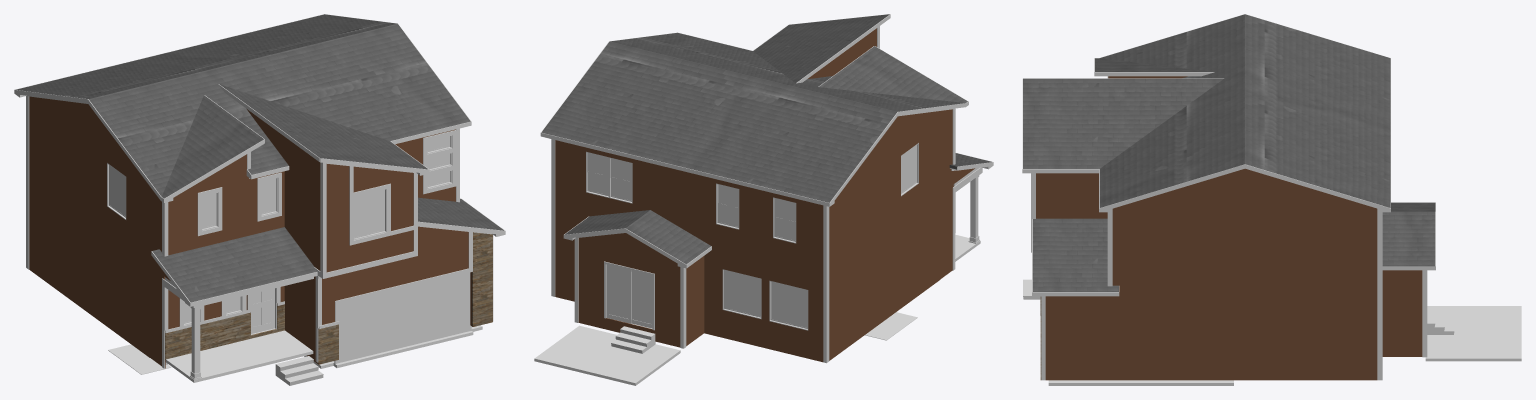
The model's file is 235-1791-dm-modern.glb.
3 views of the same model, side by side, from view 1: azimuth 30°, elevation 25°; view 2: azimuth 150°, elevation 25°; view 3: azimuth 270°, elevation 25° (orthographic). The views are drawn at different scales.
Parts seen in each view (by area): view 1: Basic Roof Wood Rafter 4" - Asphalt Shingle - Insulated_6732, Basic Wall BSB Exterior - Stud_3.5" - Sheathing_0.5" - _47e7, Basic Wall BSB Exterior - Stud_3.5" - Sheathing_0.5" - _ea36, BSB Exterior - Overhead Garage Door OGD - 16070 - Flush_eb63, Basic Roof Wood Rafter 4" - Asphalt Shingle - Insulated_c598, Basic Wall BSB Exterior - Stud_3.5" - Sheathing_0.5" - _3f65, Basic Roof Wood Rafter 4" - Asphalt Shingle - Insulated_a746, Basic Wall BSB Exterior - Stud_3.5" - Sheathing_0.5" - _44c6, Basic Wall BSB Exterior - Stud_3.5" - Sheathing_0.5" - _e9bc, Basic Roof Wood Rafter 4" - Asphalt Shingle - Insulated_f128, Trim - Corner Boards2 Trim - Corner Boards [5062734], Floor BSB Concrete Slab - 4" - Slope Option [4870198] (+33 smaller); view 2: Basic Roof Wood Rafter 4" - Asphalt Shingle - Insulated_6732, Basic Wall BSB Exterior - Stud_3.5" - Sheathing_0.5" - _07f2, Basic Wall BSB Exterior - Stud_3.5" - Sheathing_0.5" - _47e7, Basic Wall BSB Exterior - Stud_3.5" - Sheathing_0.5" - _ea36, Basic Wall BSB Exterior - Stud_3.5" - Sheathing_0.5" - _2d23, Basic Wall BSB Exterior - Stud_3.5" - Sheathing_0.5" - _a9b3, Floor BSB Concrete Slab - 4" - Slope Option [4913895], Basic Roof Wood Rafter 4" - Asphalt Shingle - Insulated_a746, Basic Roof Wood Rafter 4" - Asphalt Shingle - Insulated_f128, Trim - Corner Boards2 Trim - Corner Boards [5062734], Basic Roof Wood Rafter 4" - Asphalt Shingle - Insulated_96e2, Fascia Fascia-Flat 1x6 w/12" Soffit Bd [5065618] (+19 smaller); view 3: Basic Roof Wood Rafter 4" - Asphalt Shingle - Insulated_6732, Basic Wall BSB Exterior - Stud_3.5" - Sheathing_0.5" - _c07a, Basic Wall BSB Exterior - Stud_3.5" - Sheathing_0.5" - _a325, Basic Roof Wood Rafter 4" - Asphalt Shingle - Insulated_a746, Basic Wall BSB Exterior - Stud_3.5" - Sheathing_0.5" - _108d, Basic Wall BSB Exterior - Stud_3.5" - Sheathing_0.5" - _b3e6, Basic Roof Wood Rafter 4" - Asphalt Shingle - Insulated_c0cc, Basic Wall BSB Exterior - Stud_1.5" - Sheathing_0.5" - _357a, Floor BSB Concrete Slab - 4" - Slope Option [4913895], Basic Wall BSB Exterior - Stud_3.5" - Sheathing_0.5" - _6b2a, Basic Roof Wood Rafter 4" - Asphalt Shingle - Insulated_96e2, Fascia Fascia-Flat 1x6 w/12" Soffit Bd [5065618] (+7 smaller).
Boxes of the visible parts, bbox=[...] form: Basic Roof Wood Rafter 4" - Asphalt Shingle - Insulated_6732: bbox=[15, 14, 470, 196]; Basic Wall BSB Exterior - Stud_3.5" - Sheathing_0.5" - _47e7: bbox=[29, 178, 149, 357]; Basic Wall BSB Exterior - Stud_3.5" - Sheathing_0.5" - _ea36: bbox=[29, 96, 149, 265]; BSB Exterior - Overhead Garage Door OGD - 16070 - Flush_eb63: bbox=[334, 272, 471, 363]; Basic Roof Wood Rafter 4" - Asphalt Shingle - Insulated_c598: bbox=[152, 227, 316, 302]; Basic Wall BSB Exterior - Stud_3.5" - Sheathing_0.5" - _3f65: bbox=[326, 164, 413, 272]; Basic Roof Wood Rafter 4" - Asphalt Shingle - Insulated_a746: bbox=[219, 84, 427, 169]; Basic Wall BSB Exterior - Stud_3.5" - Sheathing_0.5" - _44c6: bbox=[168, 171, 284, 255]; Basic Wall BSB Exterior - Stud_3.5" - Sheathing_0.5" - _e9bc: bbox=[316, 236, 471, 363]; Basic Roof Wood Rafter 4" - Asphalt Shingle - Insulated_f128: bbox=[162, 95, 263, 198]; Trim - Corner Boards2 Trim - Corner Boards [5062734]: bbox=[26, 96, 493, 368]; Floor BSB Concrete Slab - 4" - Slope Option [4870198]: bbox=[165, 330, 313, 382]; Basic Roof Wood Rafter 4" - Asphalt Shingle - Insulated_6732: bbox=[541, 32, 964, 202]; Basic Wall BSB Exterior - Stud_3.5" - Sheathing_0.5" - _07f2: bbox=[555, 140, 823, 276]; Basic Wall BSB Exterior - Stud_3.5" - Sheathing_0.5" - _47e7: bbox=[823, 194, 940, 360]; Basic Wall BSB Exterior - Stud_3.5" - Sheathing_0.5" - _ea36: bbox=[823, 118, 940, 274]; Basic Wall BSB Exterior - Stud_3.5" - Sheathing_0.5" - _2d23: bbox=[704, 249, 823, 362]; Basic Wall BSB Exterior - Stud_3.5" - Sheathing_0.5" - _a9b3: bbox=[578, 237, 680, 347]; Floor BSB Concrete Slab - 4" - Slope Option [4913895]: bbox=[534, 325, 680, 385]; Basic Roof Wood Rafter 4" - Asphalt Shingle - Insulated_a746: bbox=[753, 14, 889, 82]; Basic Roof Wood Rafter 4" - Asphalt Shingle - Insulated_f128: bbox=[818, 46, 967, 102]; Trim - Corner Boards2 Trim - Corner Boards [5062734]: bbox=[551, 26, 955, 363]; Basic Roof Wood Rafter 4" - Asphalt Shingle - Insulated_96e2: bbox=[565, 210, 711, 264]; Fascia Fascia-Flat 1x6 w/12" Soffit Bd [5065618]: bbox=[541, 14, 968, 206]; Basic Roof Wood Rafter 4" - Asphalt Shingle - Insulated_6732: bbox=[1099, 14, 1390, 207]; Basic Wall BSB Exterior - Stud_3.5" - Sheathing_0.5" - _c07a: bbox=[1143, 208, 1377, 288]; Basic Wall BSB Exterior - Stud_3.5" - Sheathing_0.5" - _a325: bbox=[1237, 289, 1377, 380]; Basic Roof Wood Rafter 4" - Asphalt Shingle - Insulated_a746: bbox=[1023, 78, 1223, 168]; Basic Wall BSB Exterior - Stud_3.5" - Sheathing_0.5" - _108d: bbox=[1143, 289, 1236, 380]; Basic Wall BSB Exterior - Stud_3.5" - Sheathing_0.5" - _b3e6: bbox=[1045, 289, 1142, 380]; Basic Roof Wood Rafter 4" - Asphalt Shingle - Insulated_c0cc: bbox=[1032, 218, 1118, 291]; Basic Wall BSB Exterior - Stud_1.5" - Sheathing_0.5" - _357a: bbox=[1115, 168, 1374, 207]; Floor BSB Concrete Slab - 4" - Slope Option [4913895]: bbox=[1425, 306, 1521, 361]; Basic Wall BSB Exterior - Stud_3.5" - Sheathing_0.5" - _6b2a: bbox=[1382, 270, 1422, 356]; Basic Roof Wood Rafter 4" - Asphalt Shingle - Insulated_96e2: bbox=[1382, 202, 1435, 266]; Fascia Fascia-Flat 1x6 w/12" Soffit Bd [5065618]: bbox=[1022, 14, 1390, 209].
Bounding box in the file's own units: 11.32 × 8.79 × 15.87.
3 materials, 2 textured.
